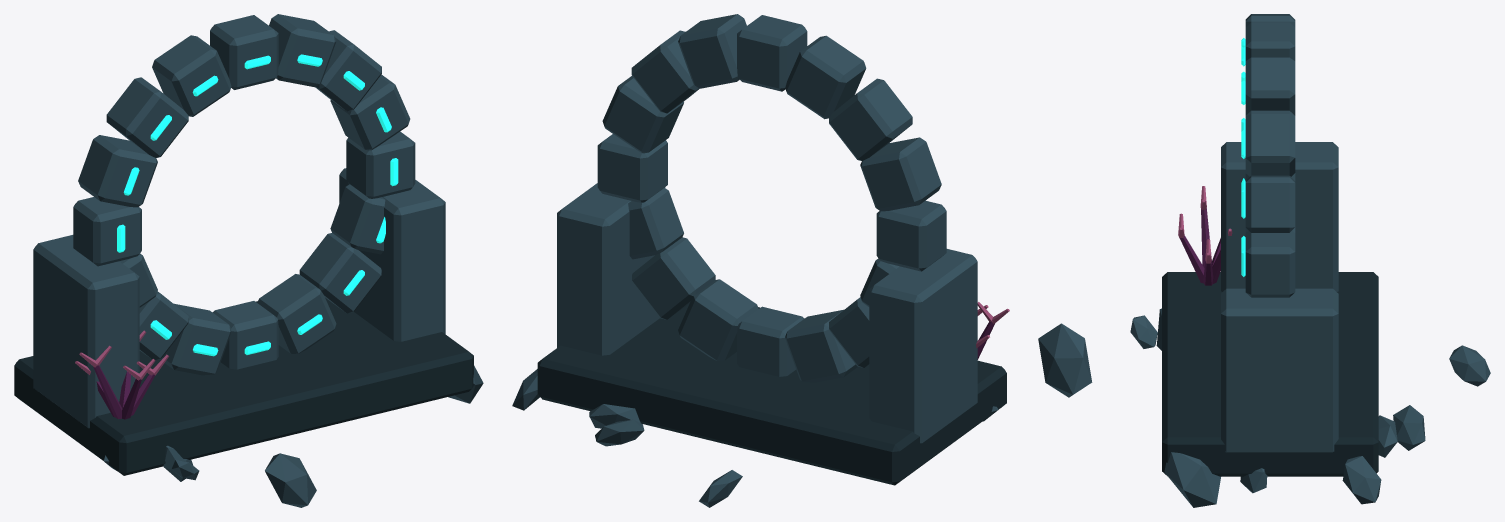
The model's file is 04_sunken_rotor.glb.
3 views of the same model, side by side, from view 1: azimuth 30°, elevation 25°; view 2: azimuth 150°, elevation 25°; view 3: azimuth 270°, elevation 25° (orthographic). The views are drawn at different scales.
Visible parts, largest first — view 1: RotorPlinth, RotorSupport, RotorSupport.001, RingSegment.005, RingSegment.007, RingSegment.006, RingSegment.008, RingSegment.004, RingSegment.014, RingSegment.013, RingSegment, RingSegment.003 (+8 smaller); view 2: RotorPlinth, RotorSupport, RotorSupport.001, RingSegment.005, RingSegment.007, RingSegment.008, RingSegment.006, RingSegment.004, RingSegment.014, RingSegment.013, RingSegment, RingSegment.003 (+11 smaller); view 3: RotorPlinth, RotorSupport.001, RotorSupport, RingSegment.002, RingSegment, RingSegment.001, BrokenStone.040, RingSegment.003, BrokenStone.041, RingSegment.004, BrokenStone.038, BrokenStone.045 (+3 smaller).
Boxes of the visible parts, bbox=[...] form: RotorPlinth: bbox=[14, 297, 473, 475]; RotorSupport: bbox=[33, 235, 139, 428]; RotorSupport.001: bbox=[339, 168, 445, 341]; RingSegment.005: bbox=[152, 35, 231, 116]; RingSegment.007: bbox=[78, 135, 157, 207]; RingSegment.006: bbox=[106, 77, 188, 157]; RingSegment.008: bbox=[73, 197, 141, 266]; RingSegment.004: bbox=[210, 15, 278, 89]; RingSegment.014: bbox=[299, 233, 381, 313]; RingSegment.013: bbox=[257, 274, 336, 353]; RingSegment: bbox=[346, 131, 415, 198]; RingSegment.003: bbox=[269, 14, 336, 87]; RotorPlinth: bbox=[537, 303, 1006, 485]; RotorSupport: bbox=[869, 249, 977, 443]; RotorSupport.001: bbox=[557, 183, 665, 355]; RingSegment.005: bbox=[785, 35, 866, 119]; RingSegment.007: bbox=[860, 137, 941, 211]; RingSegment.008: bbox=[876, 200, 946, 271]; RingSegment.006: bbox=[829, 78, 912, 160]; RingSegment.004: bbox=[737, 15, 807, 91]; RingSegment.014: bbox=[632, 237, 715, 319]; RingSegment.013: bbox=[678, 279, 758, 360]; RingSegment: bbox=[597, 134, 667, 202]; RingSegment.003: bbox=[678, 14, 746, 88]; RotorPlinth: bbox=[1162, 272, 1378, 476]; RotorSupport.001: bbox=[1221, 288, 1338, 452]; RotorSupport: bbox=[1221, 142, 1338, 291]; RingSegment.002: bbox=[1245, 110, 1295, 176]; RingSegment: bbox=[1245, 230, 1295, 297]; RingSegment.001: bbox=[1245, 175, 1295, 232]; BrokenStone.040: bbox=[1038, 323, 1092, 397]; RingSegment.003: bbox=[1245, 57, 1295, 115]; BrokenStone.041: bbox=[1164, 452, 1220, 507]; RingSegment.004: bbox=[1245, 22, 1295, 60]; BrokenStone.038: bbox=[1342, 456, 1381, 504]; BrokenStone.045: bbox=[1449, 345, 1490, 386].
Bounding box in the file's own units: 7.32 × 6.91 × 7.31.
Materials: 5 (5 with a texture image).
